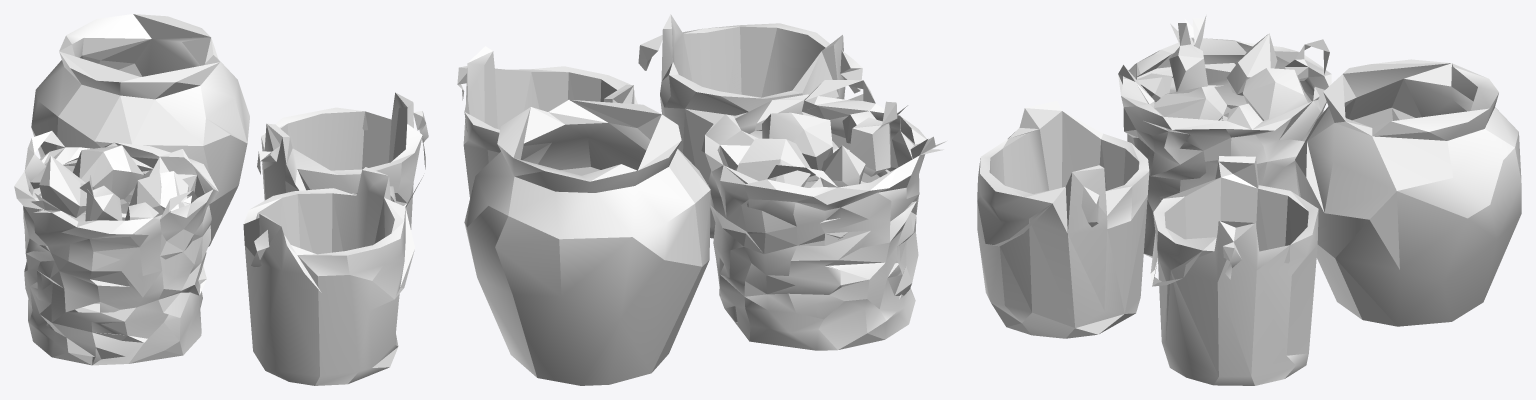
File: bucket_set.glb
The picture shows the model from 3 angles, left to right: view 1: azimuth 30°, elevation 25°; view 2: azimuth 150°, elevation 25°; view 3: azimuth 270°, elevation 25°; orthographic projection. The views are drawn at different scales.
Parts seen in each view (by area): view 1: bucket_set; view 2: bucket_set; view 3: bucket_set.
Part boxes in pixels (x1,y1,x2,y2): bucket_set: [14, 14, 428, 385]; bucket_set: [457, 14, 946, 385]; bucket_set: [977, 15, 1521, 385].
Size of the model in its own units: 1.76 by 0.8 by 1.9.
Materials: 1 (1 with a texture image).
